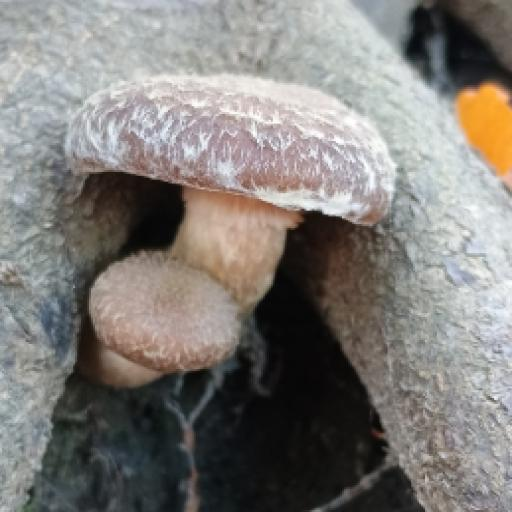Shiitake Mushroom: (58, 82, 380, 394)
